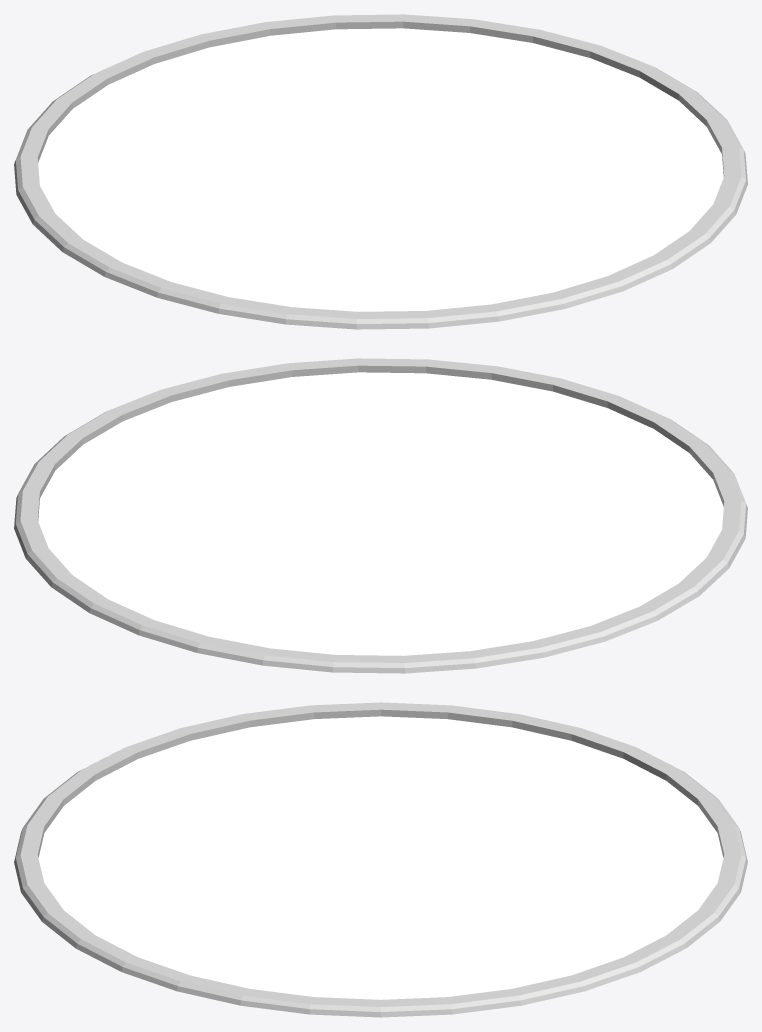
Rendered from blue-lava-vortex.glb.
3 views of the same model, one above another, from view 1: azimuth 30°, elevation 25°; view 2: azimuth 150°, elevation 25°; view 3: azimuth 270°, elevation 25° (orthographic).
Visible parts, largest first — view 1: Cylinder.001; view 2: Cylinder.001; view 3: Cylinder.001.
Boxes of the visible parts, x1,y1,x2,y2 form: Cylinder.001: (14,14,747,329); Cylinder.001: (14,358,747,673); Cylinder.001: (14,702,747,1017).
Bounding box in the file's own units: 29.37 × 0.3385 × 29.37.
